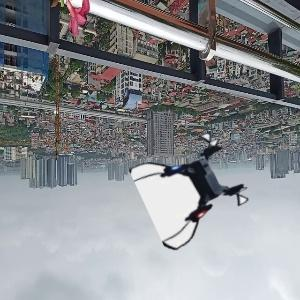drone: (143, 137, 246, 240)
